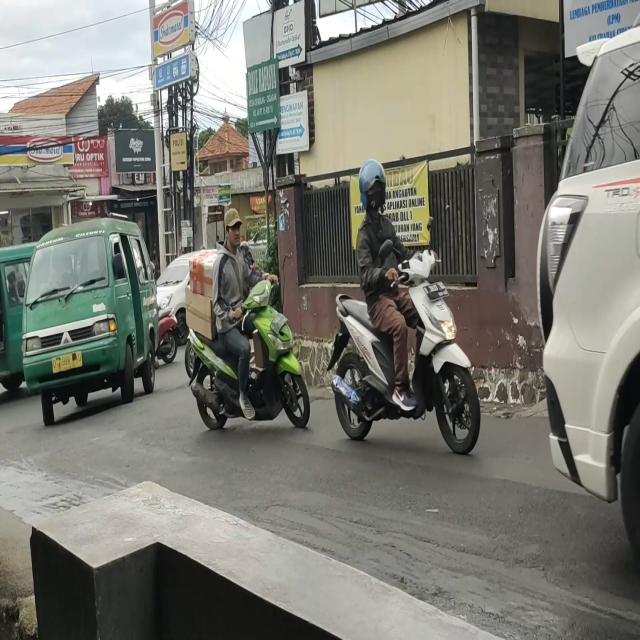helmet: (357, 161, 389, 217)
no-helmet: (221, 203, 246, 253)
